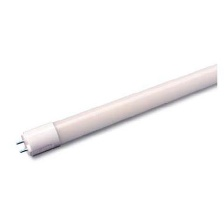light_bulb: (14, 54, 216, 163)
